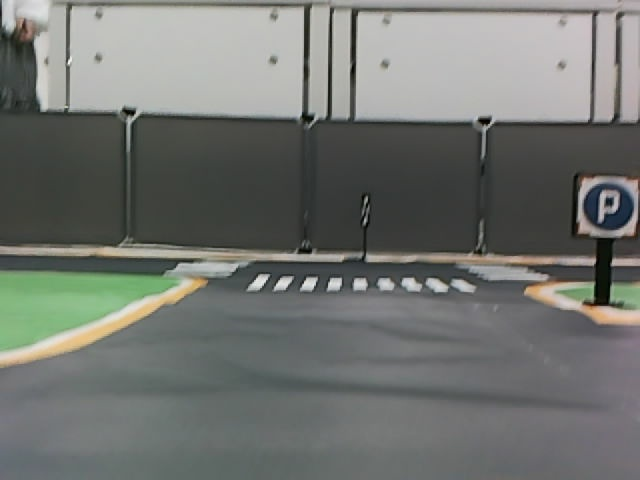crosswalk: (241, 270, 478, 295)
park: (583, 183, 635, 232)
